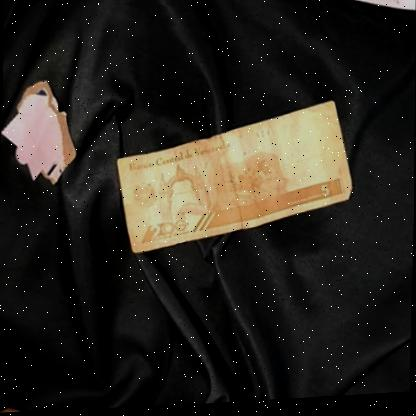five-back-vef: (114, 97, 355, 262)
